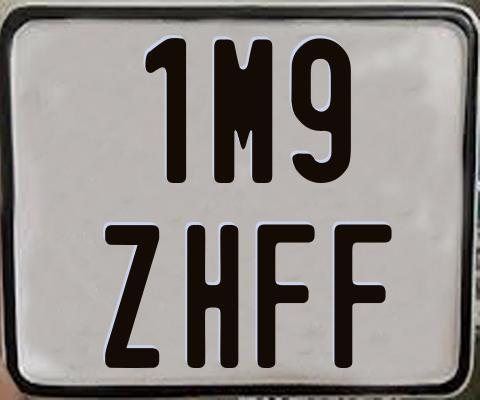1: (143, 36, 186, 183)
9: (291, 37, 355, 187)
F: (256, 222, 319, 371), (334, 224, 392, 368)
H: (187, 224, 239, 369)
M: (214, 38, 272, 187)
Z: (103, 225, 158, 370)
